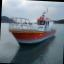fishing boat: (7, 0, 58, 49)
